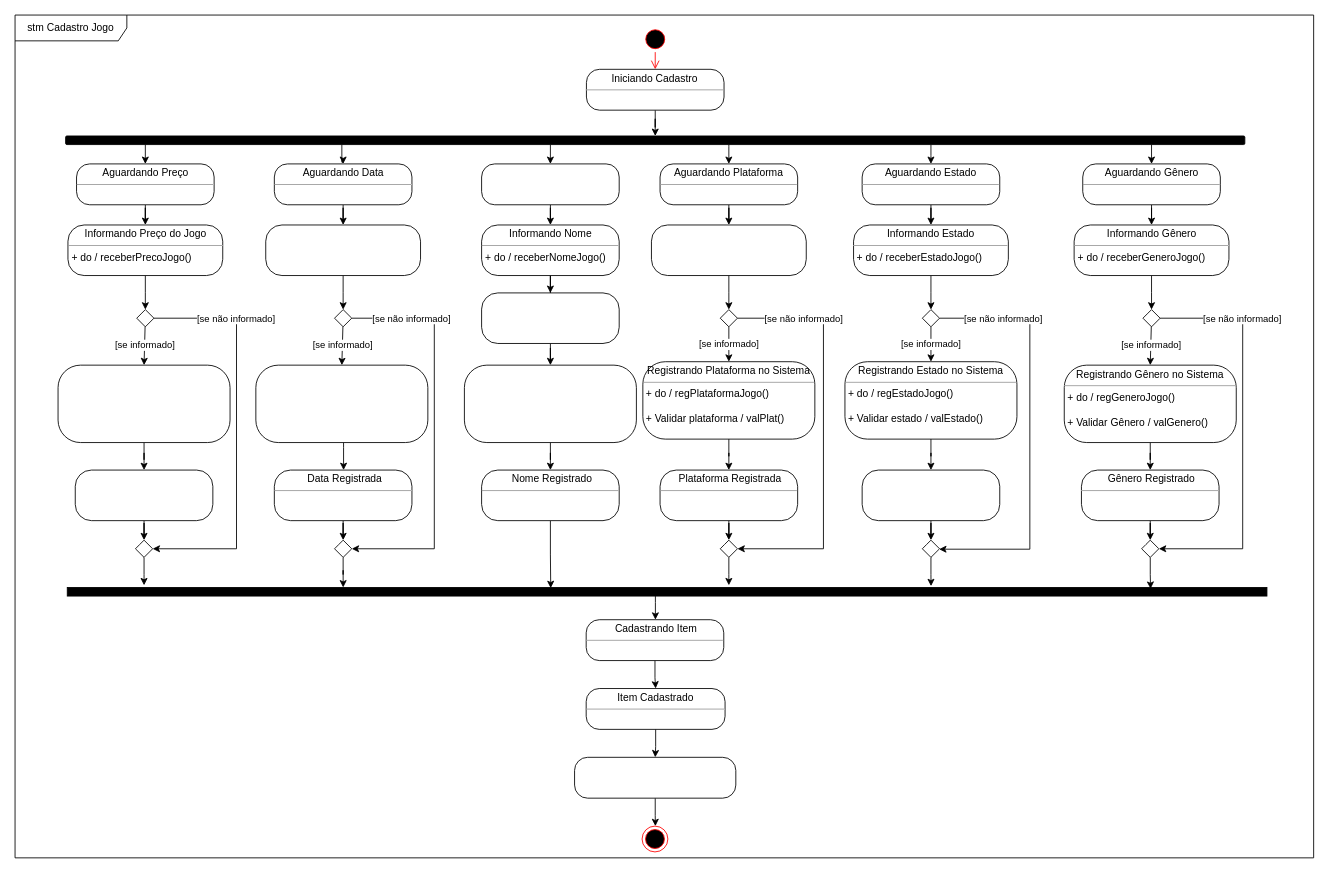
This 1329x873 diagram has some shape labels left out. Each missing label, with the box of its shape:
Aguardando Nome: (481, 163, 619, 205)
Estado Registrado: (861, 469, 1000, 521)
Informando Cadastro Realizado: (574, 756, 736, 798)
Informando Data Lançamento + do / receberDataJogo(): (265, 224, 421, 276)
Informando Plataforma + do / receberPlataformaJogo(): (651, 224, 806, 276)
Nome Informado: (481, 292, 619, 343)
Preço Registrado: (74, 469, 213, 521)
Registrando Data no Sistema + do / regDataJogo() + Validar data / valData(): (255, 364, 428, 443)
Registrando Nome no Sistema + do / regNomeJogo() + Validar nome / valNome(): (464, 364, 636, 443)
Registrando Preço no Sistema + do / regPrecoJogo() + Validar preço / valPreco(): (57, 364, 230, 443)
